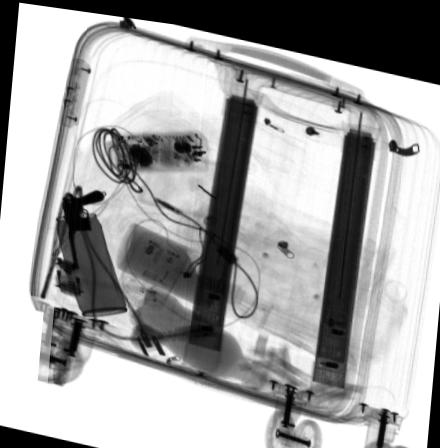Gun: (60, 186, 105, 269)
